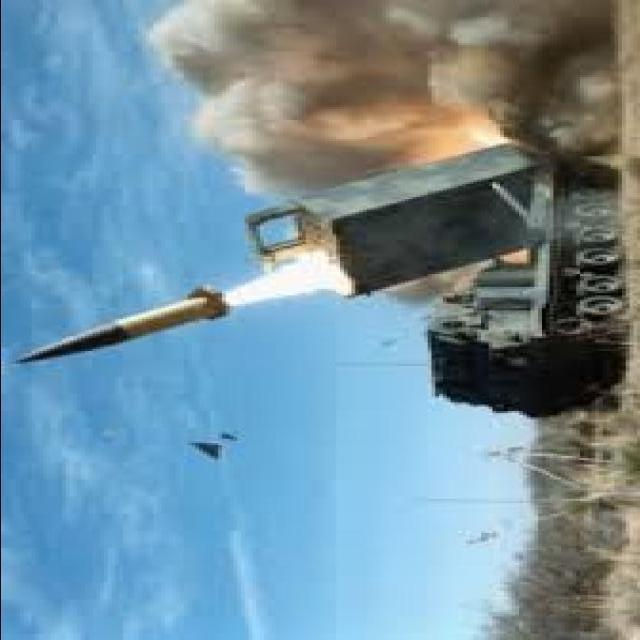missile: (17, 276, 234, 367)
